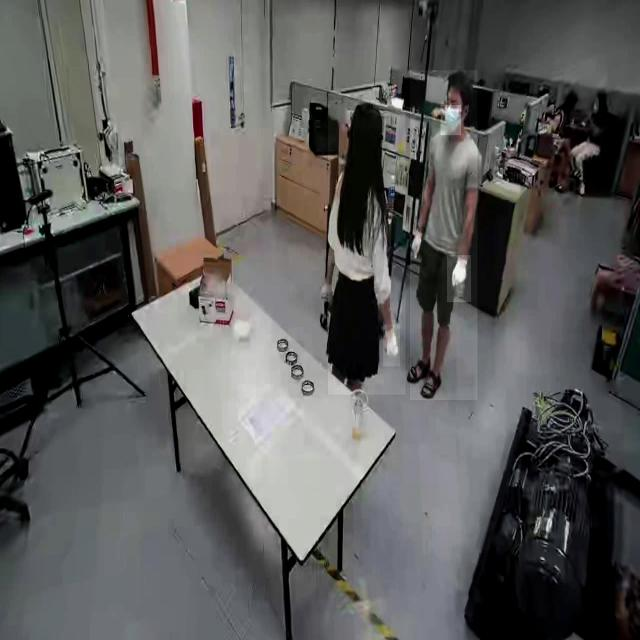face_mask: (441, 105, 461, 135)
hand_glove: (447, 255, 471, 303), (383, 325, 401, 367), (412, 226, 427, 268)
head_nohelmet: (352, 100, 382, 128), (447, 70, 473, 88)
person: (328, 100, 406, 396), (410, 70, 478, 401)
